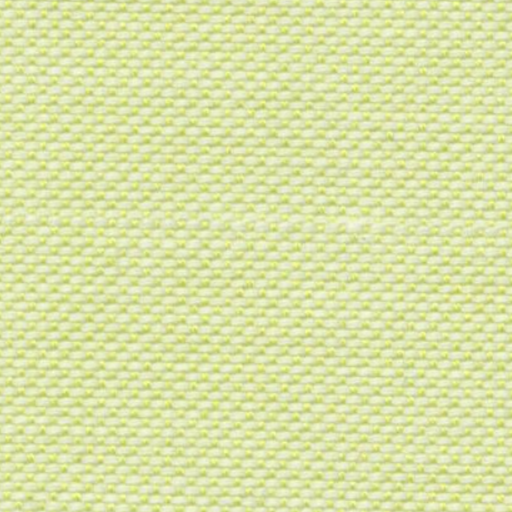TuoSha: (12, 182, 498, 264)
